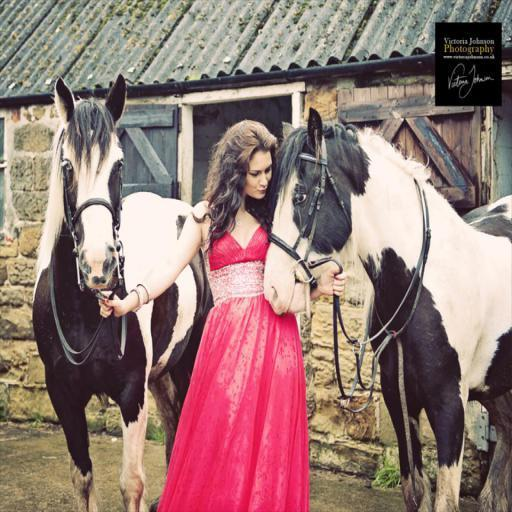horse: (262, 104, 512, 512), (30, 70, 216, 512)
